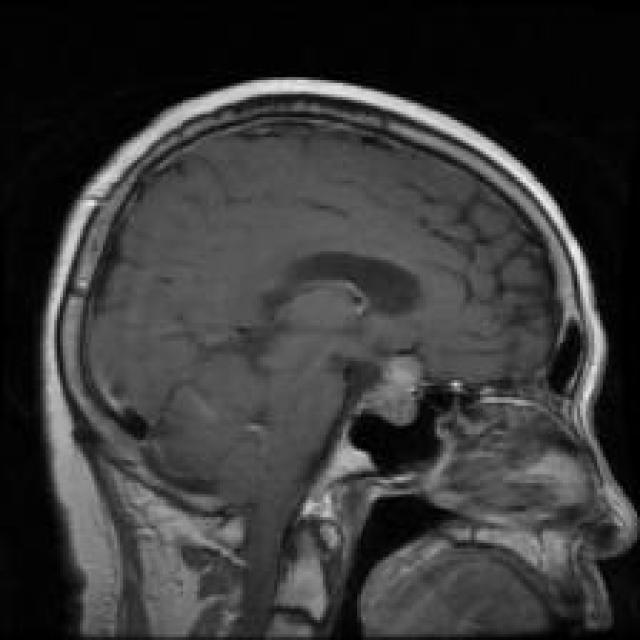pituitary_tumor: (326, 330, 436, 440)
